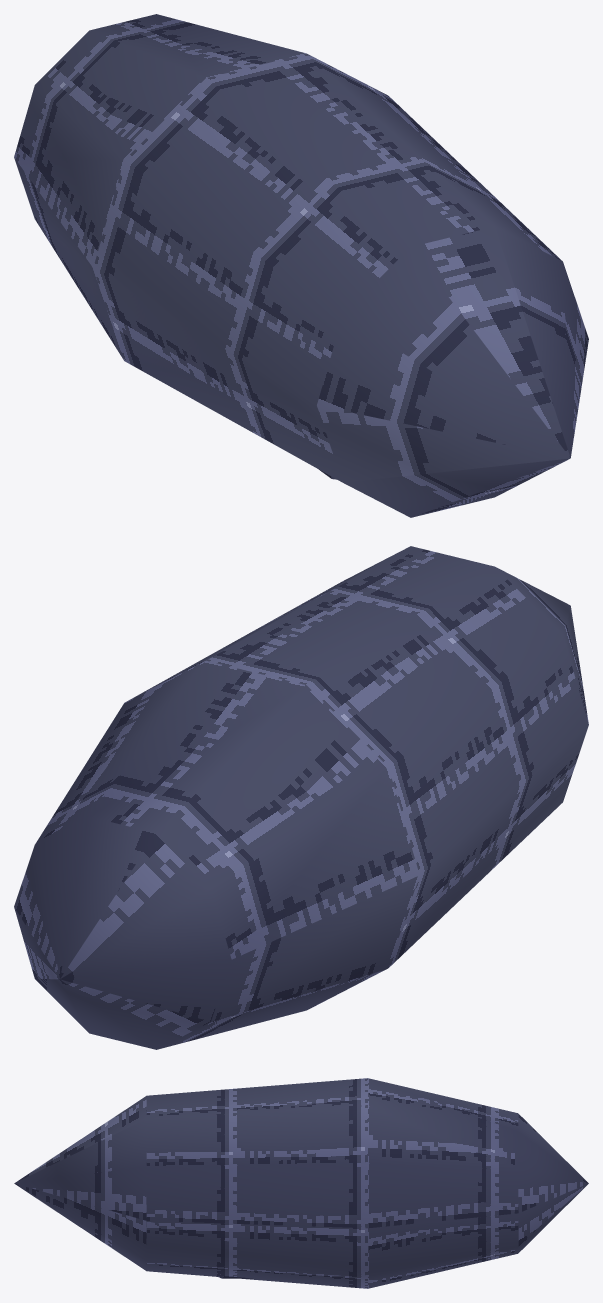
The model's file is cysky.airship.glb.
3 views of the same model, one above another, from view 1: azimuth 30°, elevation 25°; view 2: azimuth 150°, elevation 25°; view 3: azimuth 270°, elevation 25° (orthographic). The views are drawn at different scales.
Parts seen in each view (by area): view 1: kit_body; view 2: kit_body; view 3: kit_body.
Boxes of the visible parts, left/top/right/bottom form: kit_body: left=14, top=14, right=588, bottom=517; kit_body: left=14, top=546, right=588, bottom=1049; kit_body: left=14, top=1078, right=588, bottom=1288.
Size of the model in its own units: 2.4 by 2.28 by 6.5.
Materials: 3 (3 with a texture image).
